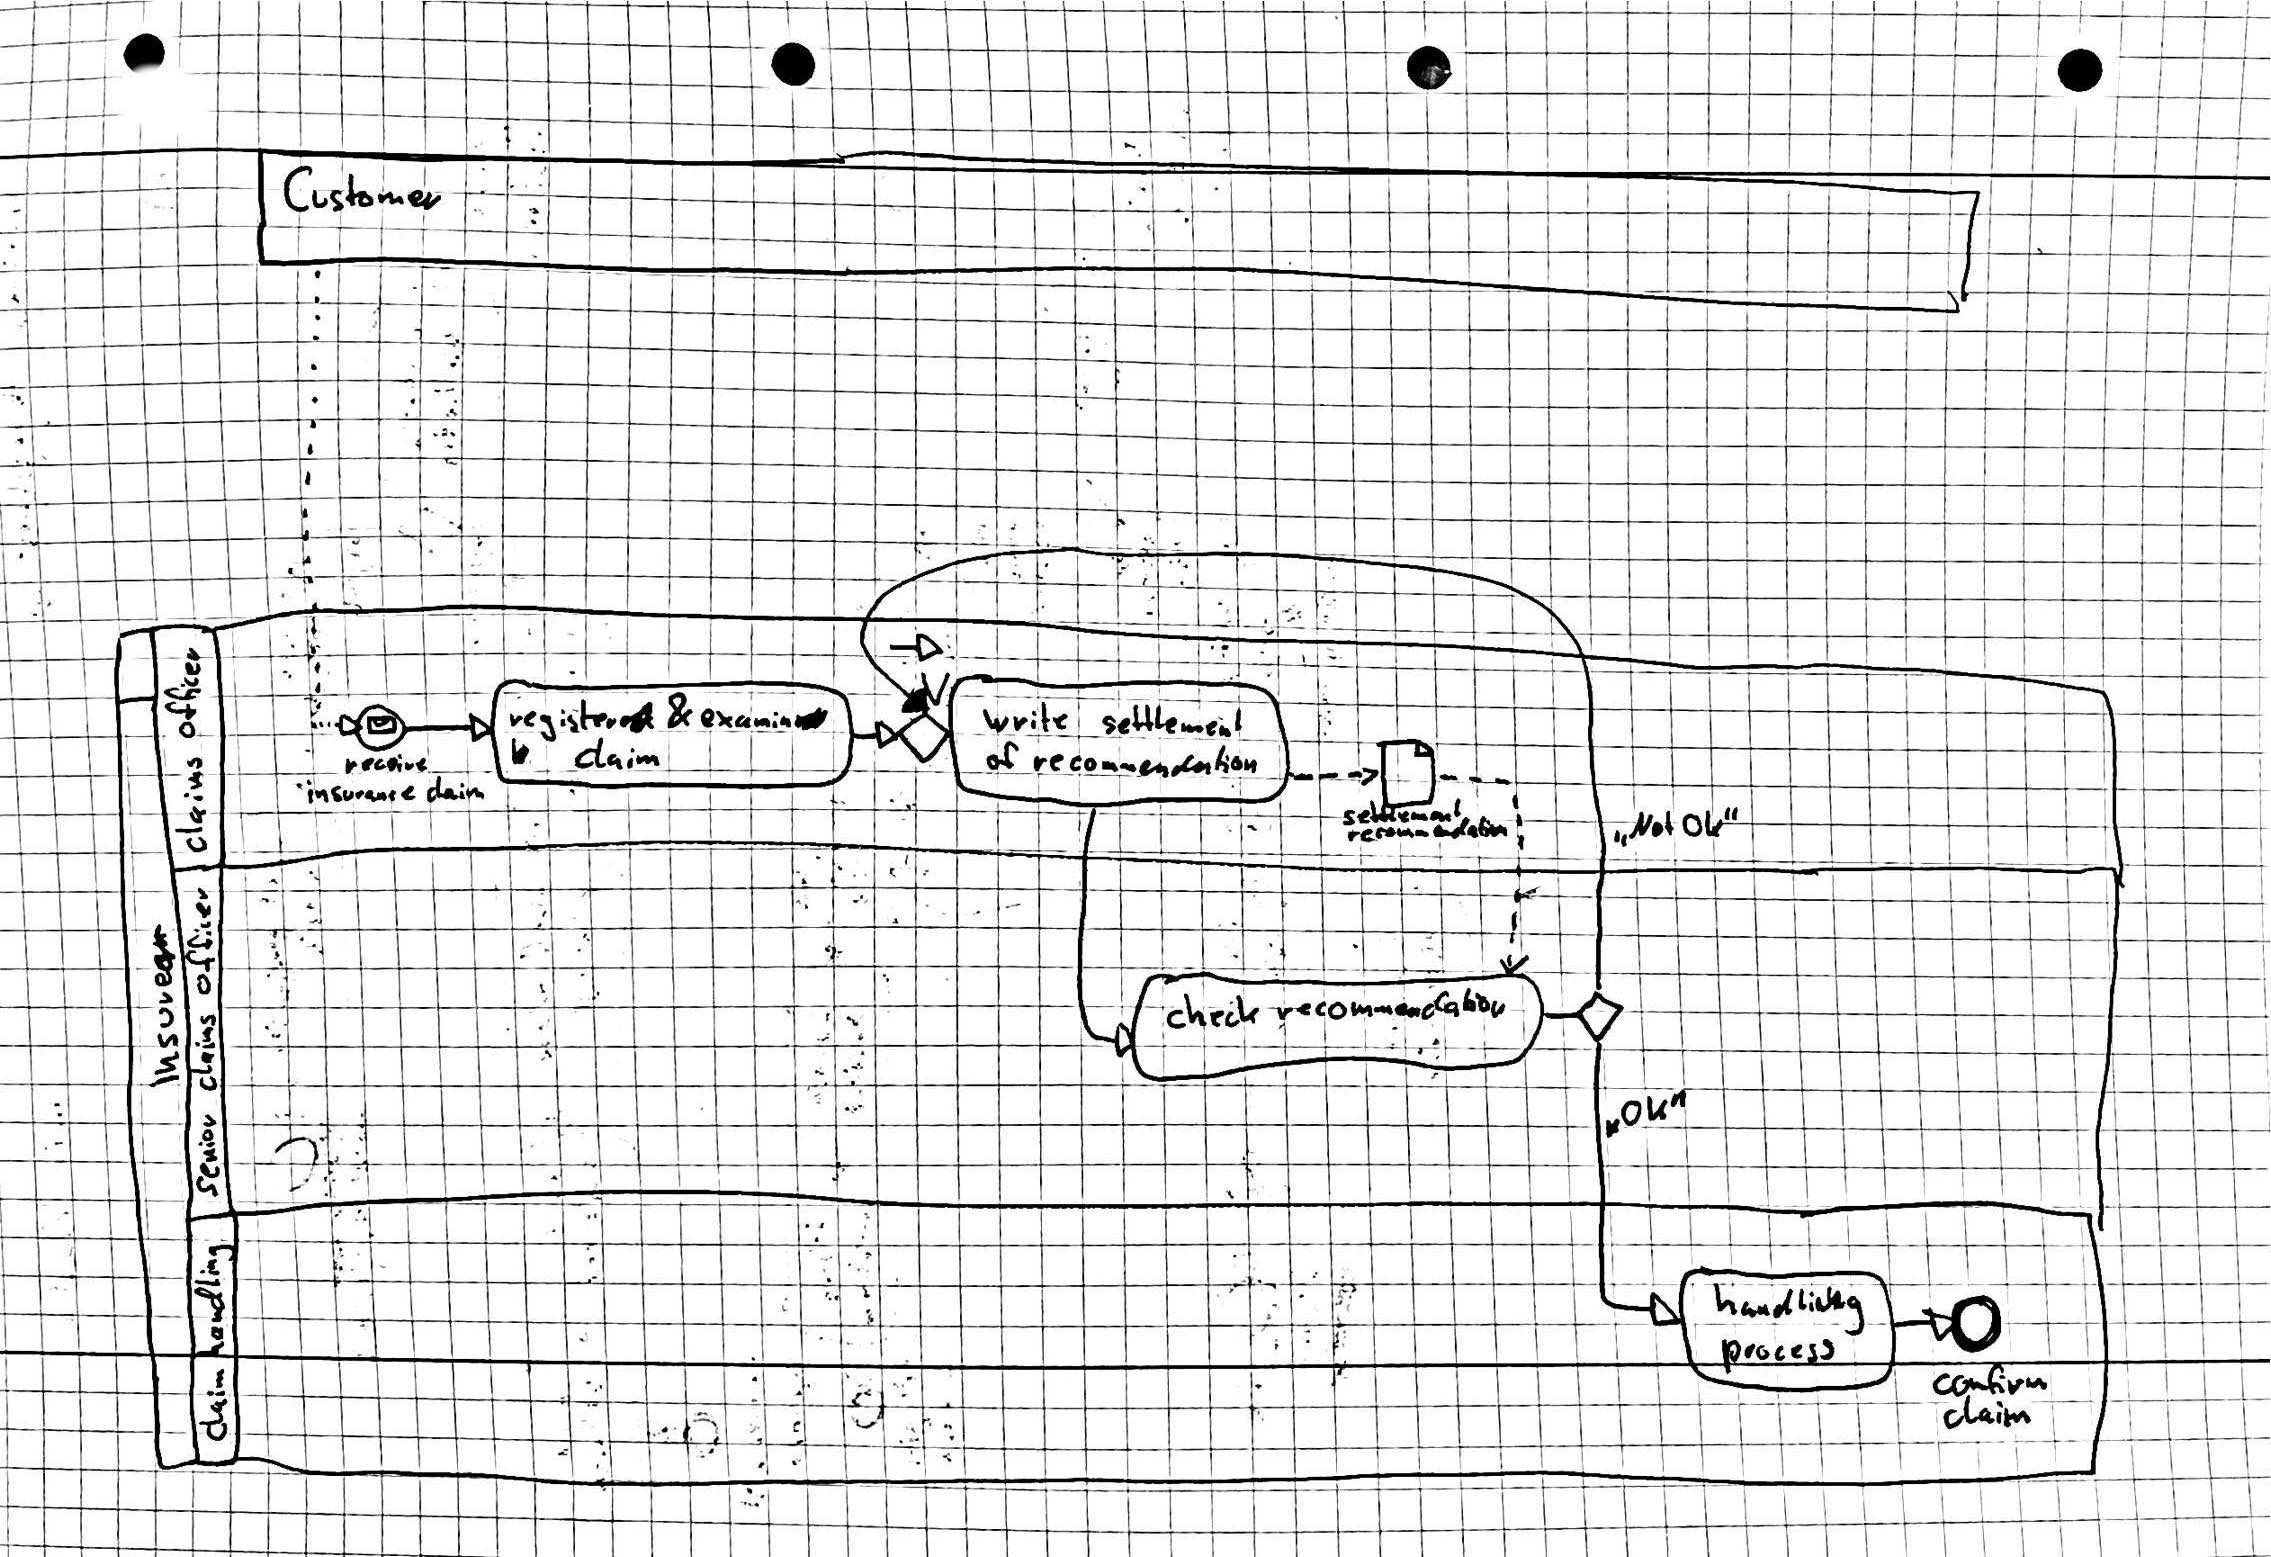&: (659, 687, 695, 739)
Customer: (274, 159, 450, 221)
Not: (1607, 806, 1681, 851)
OK: (1598, 1084, 1691, 1144)
Ok: (1677, 801, 1745, 844)
check: (1161, 987, 1265, 1036)
claim: (1934, 1390, 2040, 1436), (568, 734, 668, 777), (193, 1364, 236, 1448), (421, 772, 490, 810)
claims: (167, 753, 216, 860), (185, 1008, 226, 1098)
confirm: (1924, 1357, 2054, 1403)
examine: (695, 699, 834, 741)
handling: (1707, 1274, 1872, 1343), (188, 1234, 242, 1364)
insurance: (300, 777, 425, 810)
insurer: (140, 918, 185, 1094)
of: (980, 735, 1025, 778)
officer: (157, 644, 209, 747), (179, 880, 223, 1001)
process: (1714, 1333, 1840, 1383)
receive: (338, 749, 433, 780)
recommendation: (1270, 984, 1515, 1027), (1027, 742, 1263, 782), (1341, 811, 1513, 849)
register: (500, 692, 659, 749)
senior: (190, 1105, 230, 1200)
settlement: (1096, 701, 1253, 744), (1337, 792, 1469, 830)
write: (978, 697, 1079, 741)
